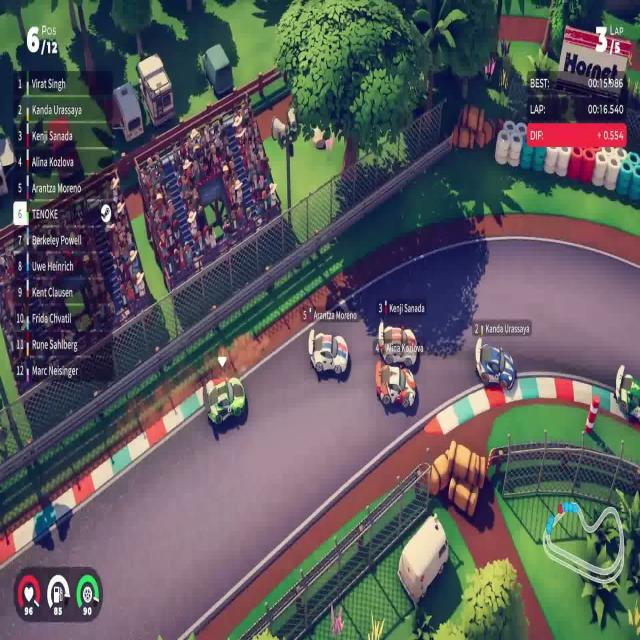car: (474, 336, 516, 391), (205, 375, 246, 428), (374, 359, 416, 410), (307, 327, 349, 377), (377, 319, 418, 367)
